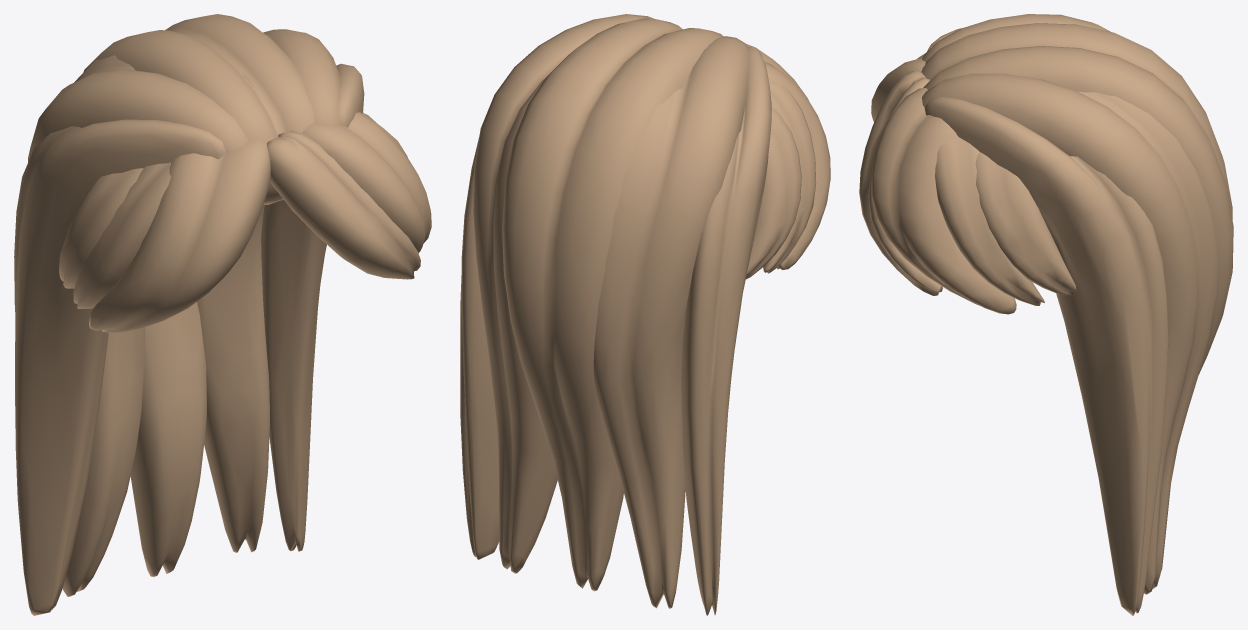
The model's file is hair-9-94cbd53d.glb.
The picture shows the model from 3 angles, left to right: view 1: azimuth 30°, elevation 25°; view 2: azimuth 150°, elevation 25°; view 3: azimuth 270°, elevation 25°; orthographic projection. The views are drawn at different scales.
Visible parts, largest first — view 1: Geo_White_Older_Female_Hair_9.001; view 2: Geo_White_Older_Female_Hair_9.001; view 3: Geo_White_Older_Female_Hair_9.001.
Boxes of the visible parts, x1,y1,x2,y2 form: Geo_White_Older_Female_Hair_9.001: [14, 14, 431, 615]; Geo_White_Older_Female_Hair_9.001: [460, 14, 830, 615]; Geo_White_Older_Female_Hair_9.001: [859, 14, 1233, 615].
Size of the model in its own units: 1.64 by 2.86 by 1.87.
